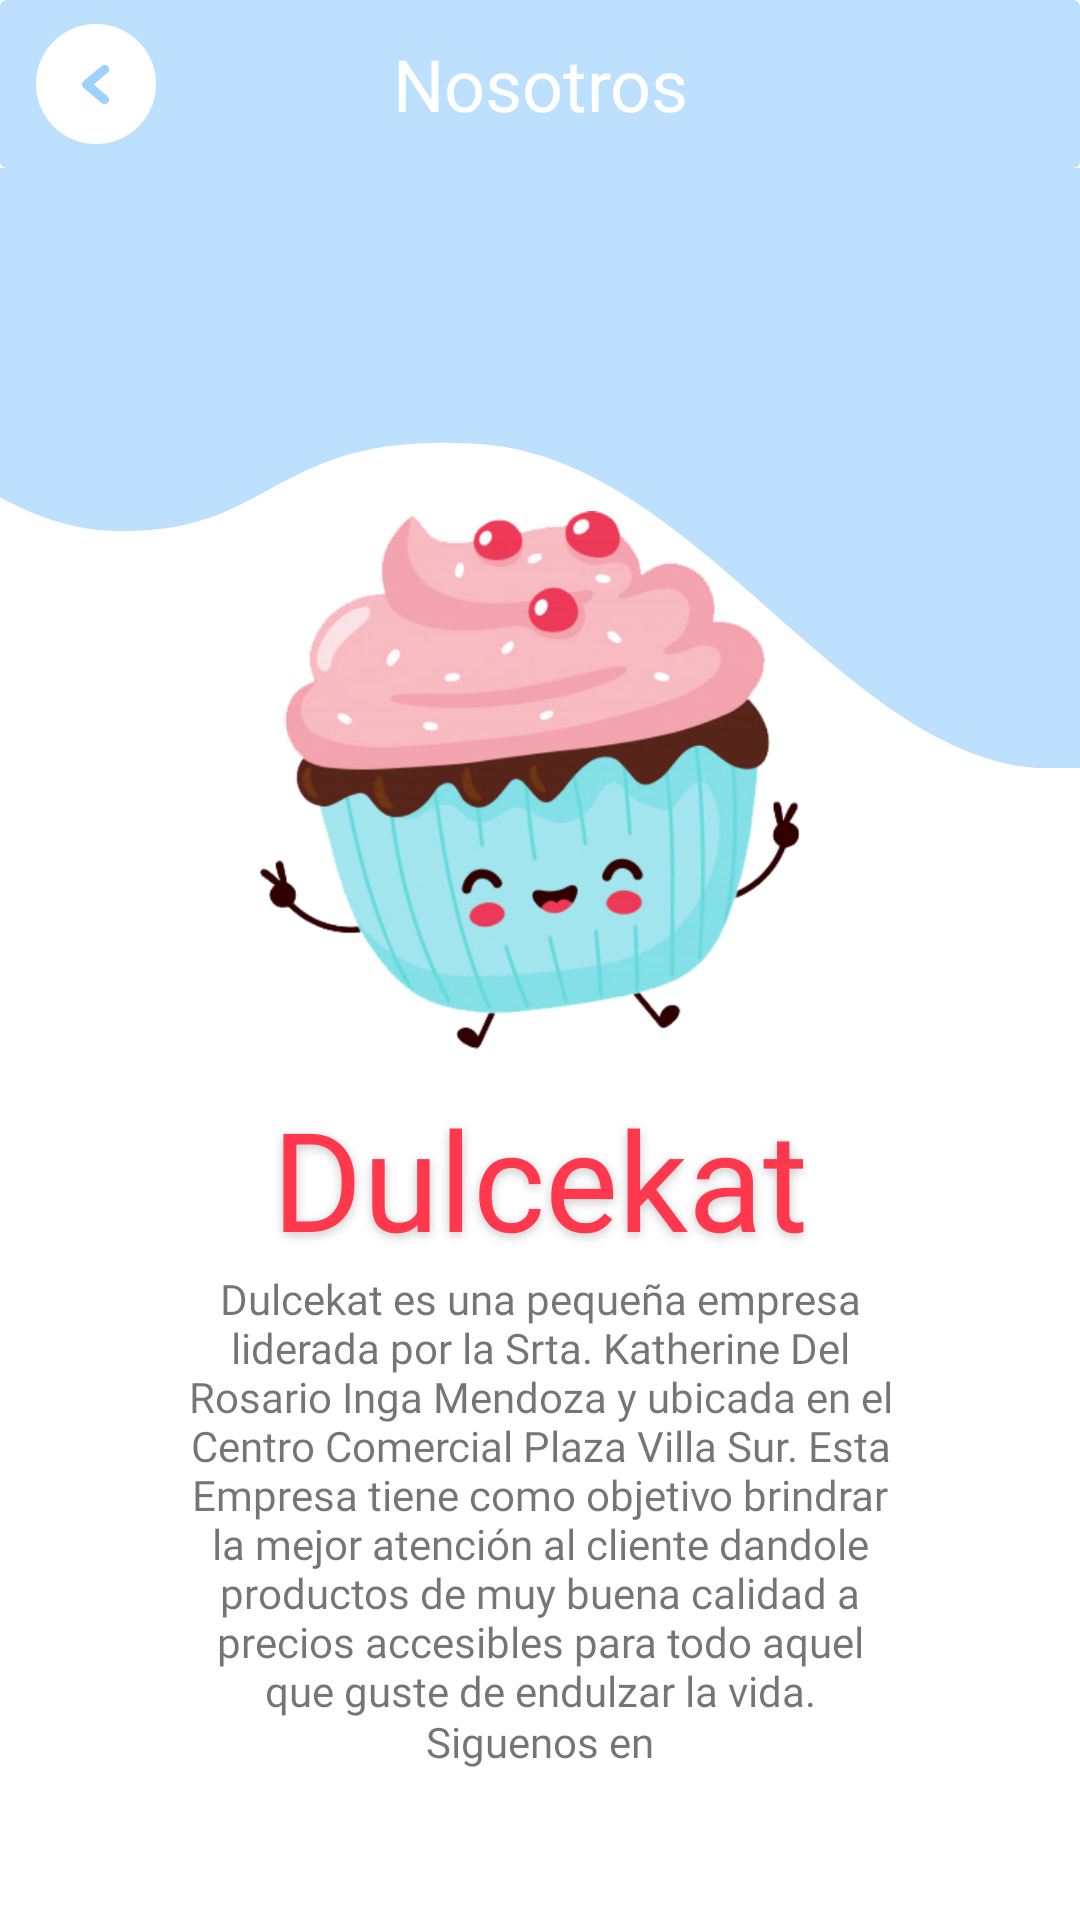

Icon click points for this 1080×1920 phone screenshot, format (x,y):
back: (96,84)
